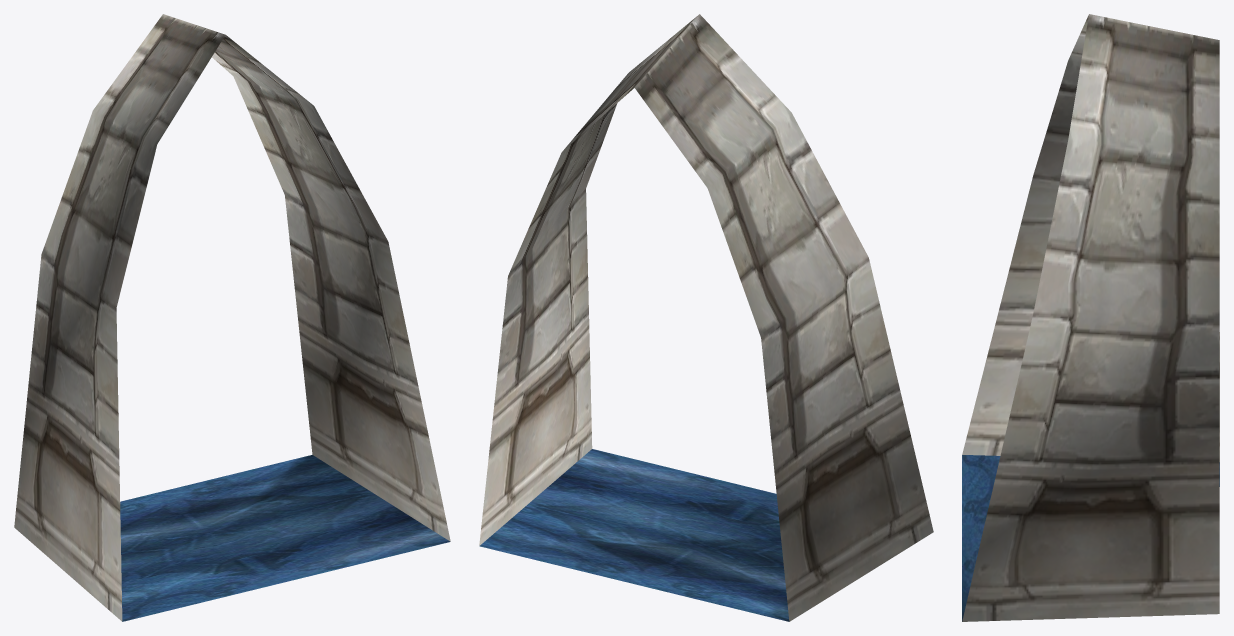
Rendered from stormwind_091.fbx.
3 views of the same model, side by side, from view 1: azimuth 30°, elevation 25°; view 2: azimuth 150°, elevation 25°; view 3: azimuth 270°, elevation 25° (orthographic). The views are drawn at different scales.
Parts seen in each view (by area): view 1: stormwind_091_60, stormwind_091_68; view 2: stormwind_091_60, stormwind_091_68; view 3: stormwind_091_60, stormwind_091_68.
Part boxes in pixels (box(x1,y1,x2,y2)): stormwind_091_60: box(14, 14, 450, 621); stormwind_091_68: box(120, 455, 450, 621); stormwind_091_60: box(479, 14, 933, 621); stormwind_091_68: box(479, 449, 789, 621); stormwind_091_60: box(962, 14, 1219, 621); stormwind_091_68: box(962, 455, 1219, 621).
Size of the model in its own units: 6.24 by 9.12 by 4.06.
